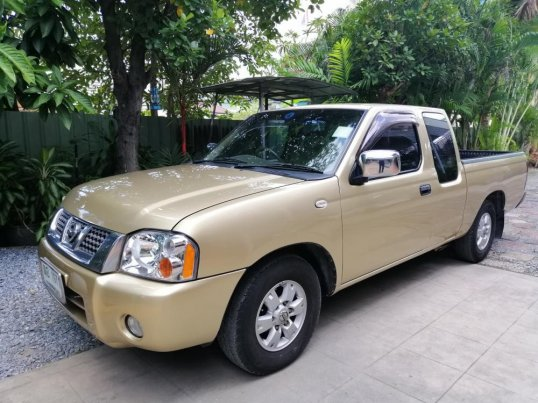pickup: (37, 103, 528, 376)
